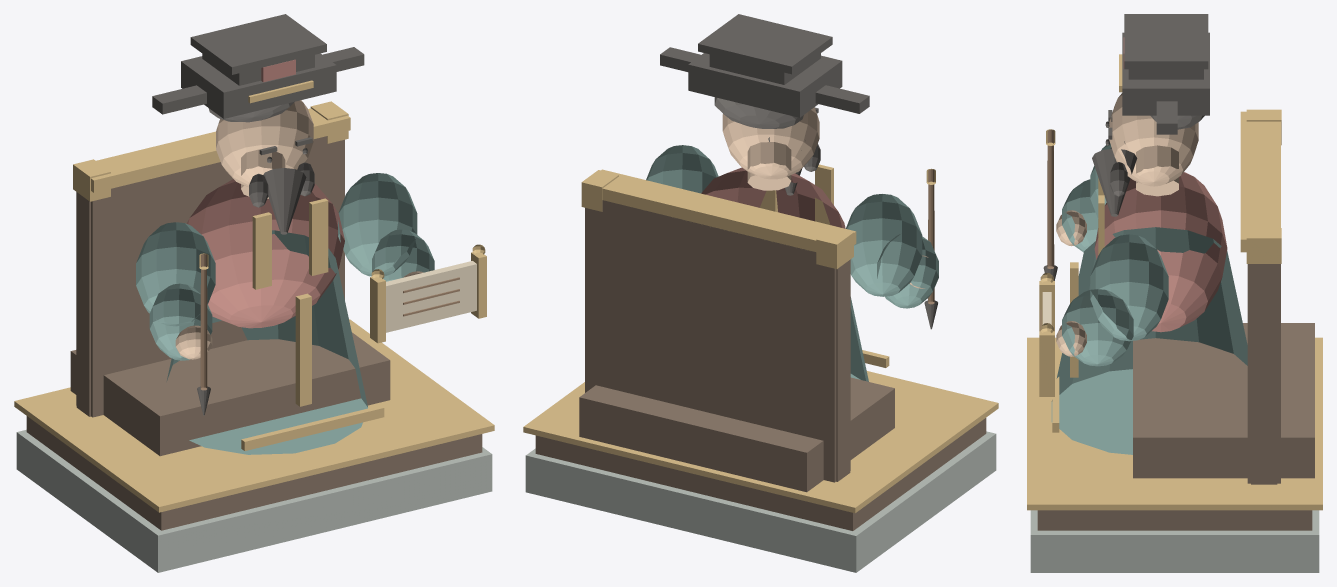
Rendered from wenchang-deity-tech-demo.glb.
3 renders of one model, left to right at view 1: azimuth 30°, elevation 25°; view 2: azimuth 150°, elevation 25°; view 3: azimuth 270°, elevation 25°, orthographic. The views are drawn at different scales.
Visible parts, largest first — view 1: DeitySculpture, Scroll, WritingBrush; view 2: DeitySculpture, WritingBrush; view 3: DeitySculpture, Scroll, WritingBrush.
Boxes of the visible parts, x1,y1,x2,y2 form: DeitySculpture: (14,14,494,572); Scroll: (370,244,486,343); WritingBrush: (197,253,210,415); DeitySculpture: (523,14,998,572); WritingBrush: (924,168,937,329); DeitySculpture: (1027,14,1322,572); Scroll: (1039,272,1054,396); WritingBrush: (1043,129,1057,280).
Size of the model in its own units: 2.26 by 2.85 by 1.69.
